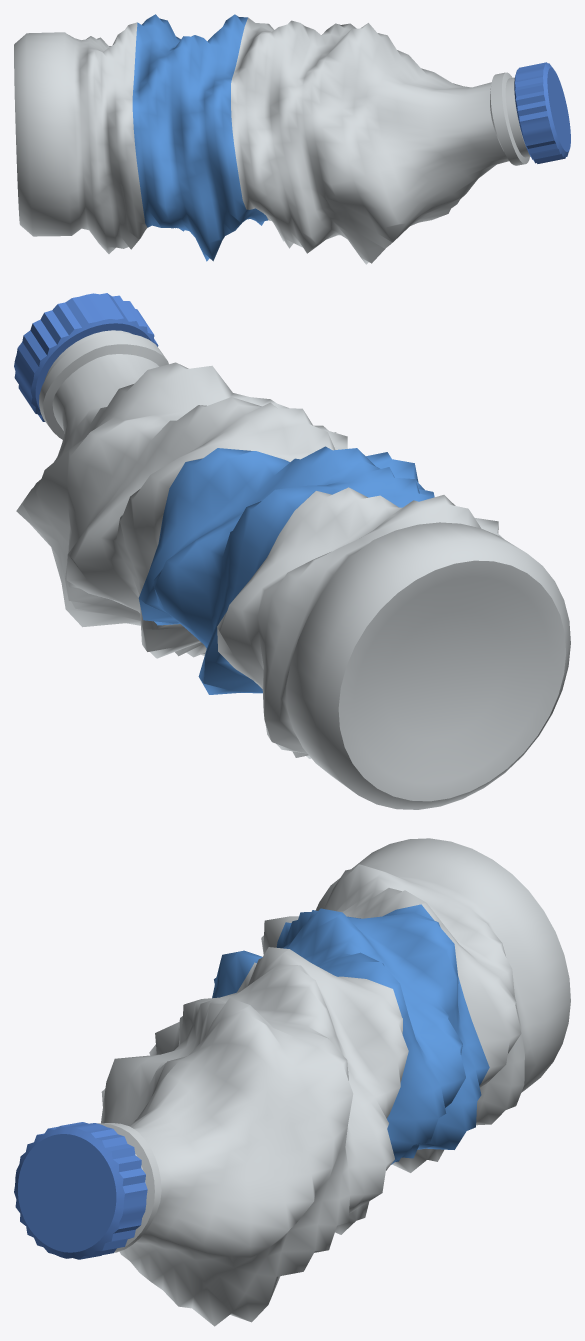
Rendered from kitchen_bottle_water_plastic.fbx.
3 views of the same model, one above another, from view 1: azimuth 30°, elevation 25°; view 2: azimuth 150°, elevation 25°; view 3: azimuth 270°, elevation 25° (orthographic). The views are drawn at different scales.
Parts seen in each view (by area): view 1: kitchen_bottle_water_plastic; view 2: kitchen_bottle_water_plastic; view 3: kitchen_bottle_water_plastic.
Part boxes in pixels (<box>): kitchen_bottle_water_plastic: <box>14,14,570,264</box>; kitchen_bottle_water_plastic: <box>14,293,570,809</box>; kitchen_bottle_water_plastic: <box>14,838,570,1326</box>.
Size of the model in its own units: 0.1654 by 0.0757 by 0.1242.
